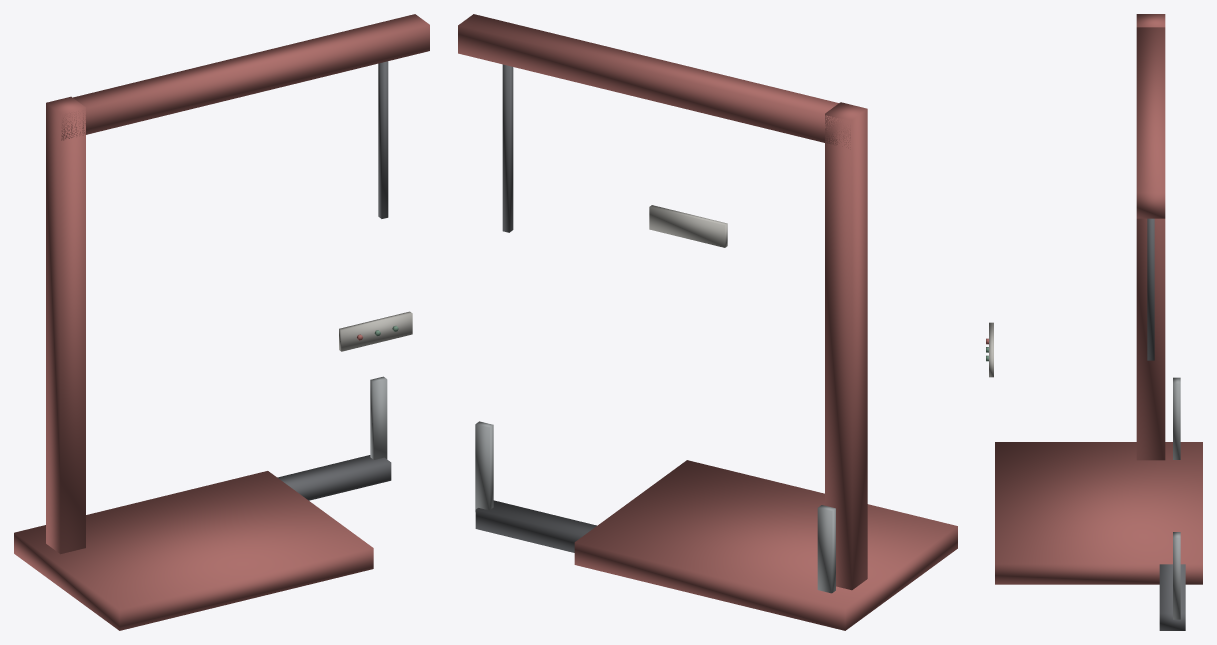
Rendered from chain_hoist__reinforced.glb.
3 renders of one model, left to right at view 1: azimuth 30°, elevation 25°; view 2: azimuth 150°, elevation 25°; view 3: azimuth 270°, elevation 25°, orthographic. The views are drawn at different scales.
Parts seen in each view (by area): view 1: world; view 2: world; view 3: world.
Part boxes in pixels (x1,y1,x2,y2): world: (14,14,429,630); world: (458,14,957,630); world: (986,14,1202,630).
Bounding box in the file's own units: 1.55 × 1.79 × 0.7735.
